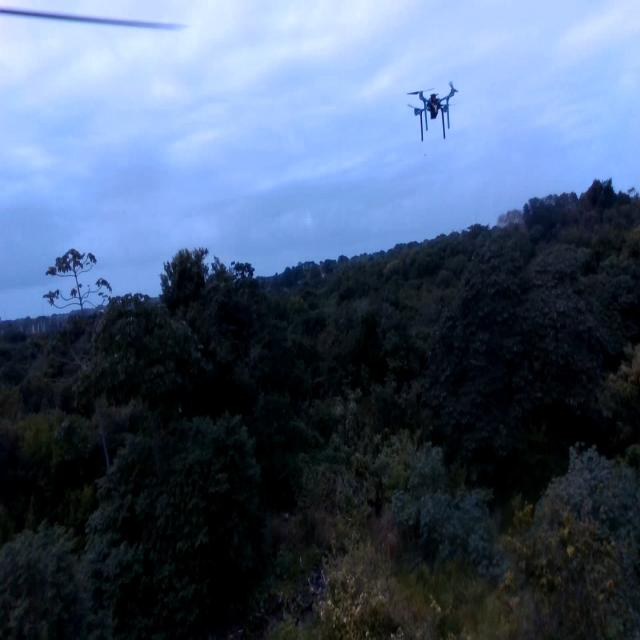-uav-: (395, 68, 473, 173)
